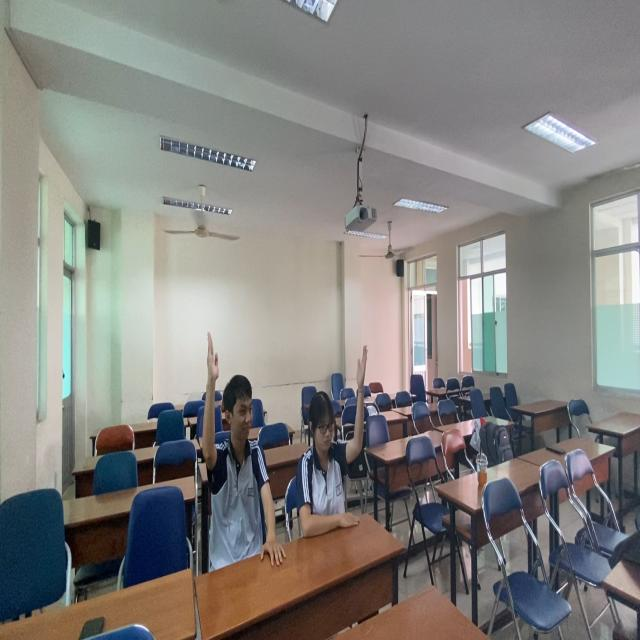raise_hand: (189, 327, 288, 573), (274, 340, 383, 542)
